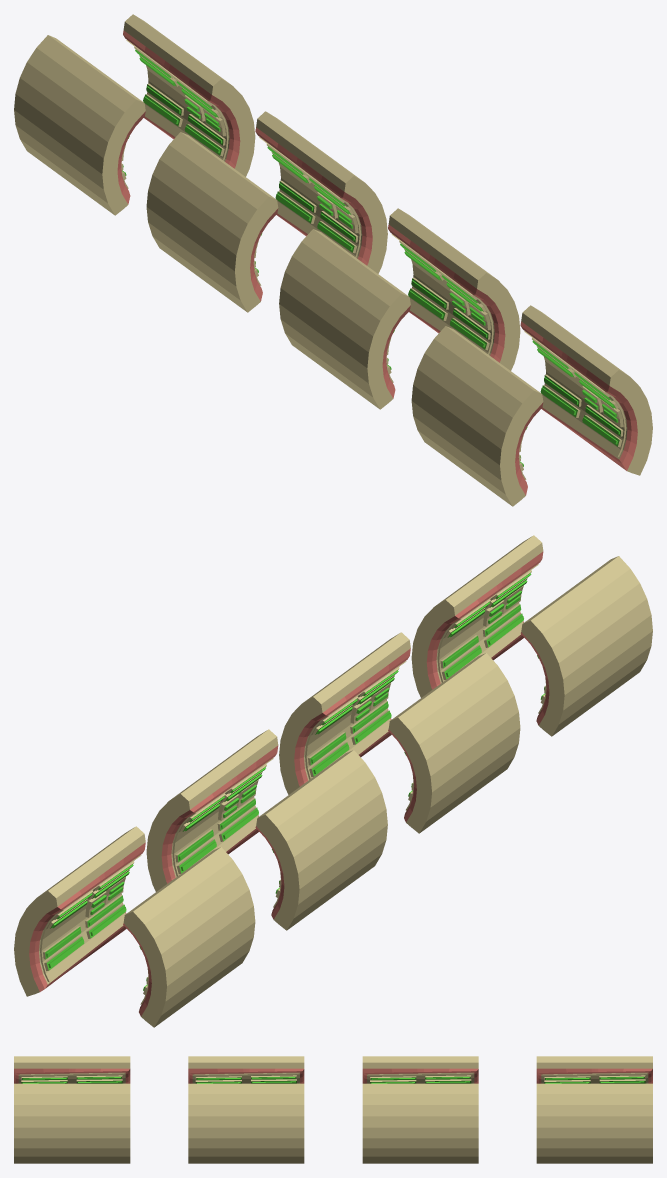
The model's file is sci1.fbx.
3 views of the same model, one above another, from view 1: azimuth 30°, elevation 25°; view 2: azimuth 150°, elevation 25°; view 3: azimuth 270°, elevation 25° (orthographic). The views are drawn at different scales.
Parts seen in each view (by area): view 1: Cylinder; view 2: Cylinder; view 3: Cylinder.
Boxes of the visible parts, <box> form: Cylinder: <box>14,14,652,506</box>; Cylinder: <box>14,535,652,1027</box>; Cylinder: <box>14,1056,652,1163</box>.
Size of the model in its own units: 1000 by 694 by 5500.
